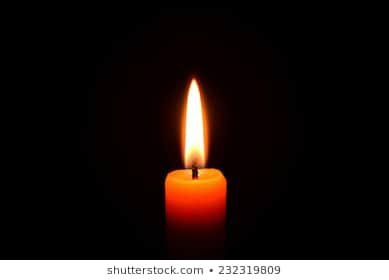fire: (179, 74, 207, 171)
